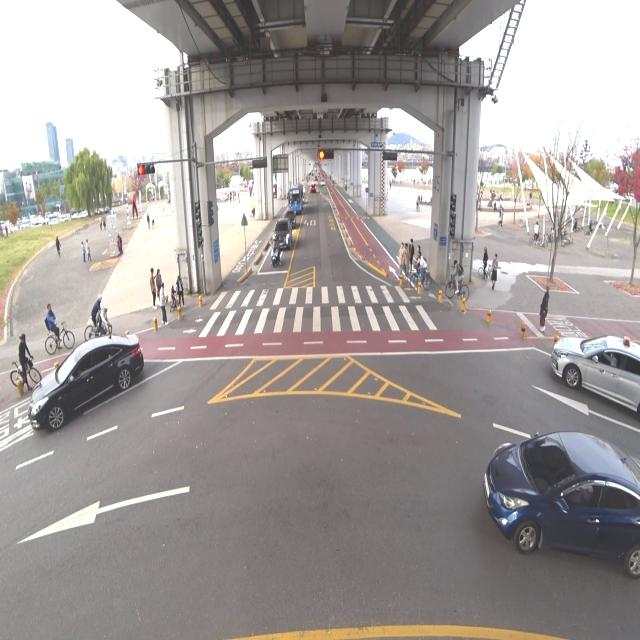Bus: (288, 181, 302, 217)
Car: (472, 419, 640, 588), (23, 319, 148, 454), (550, 322, 640, 428), (273, 216, 290, 250), (284, 209, 296, 229)
Motorcycle: (269, 232, 283, 268)
